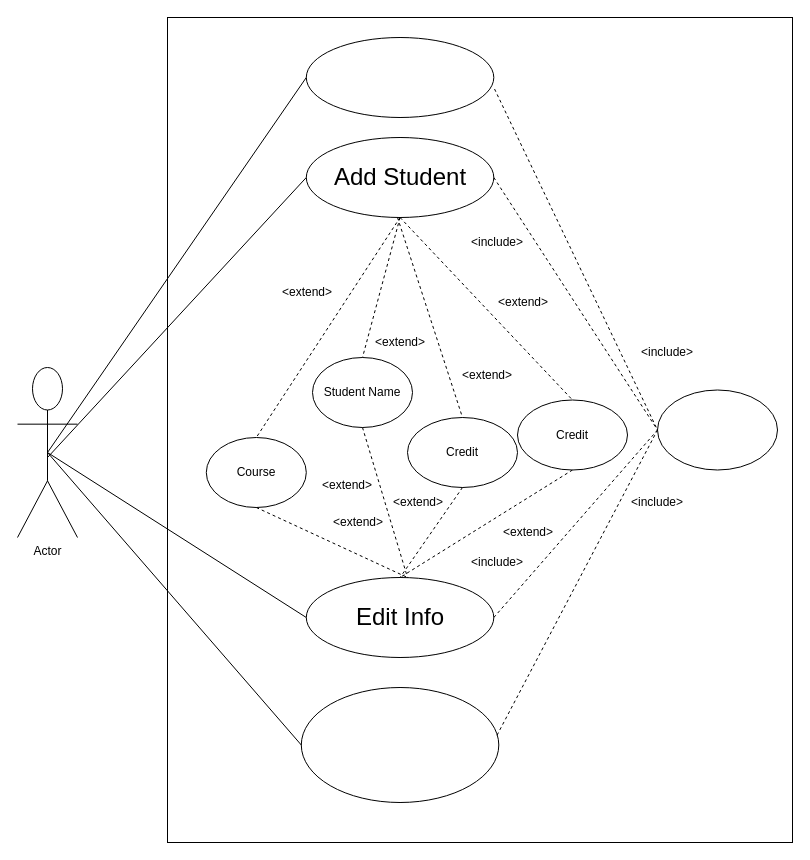
The diagram is 810 pixels wide and 860 high, and some of its shapes have lost their labels. Here are the shapes that lost their labels. From the top down, the box of each, then its label:
(305, 36, 494, 118): Login
(656, 389, 778, 470): DataBase
(300, 686, 499, 802): Delete
